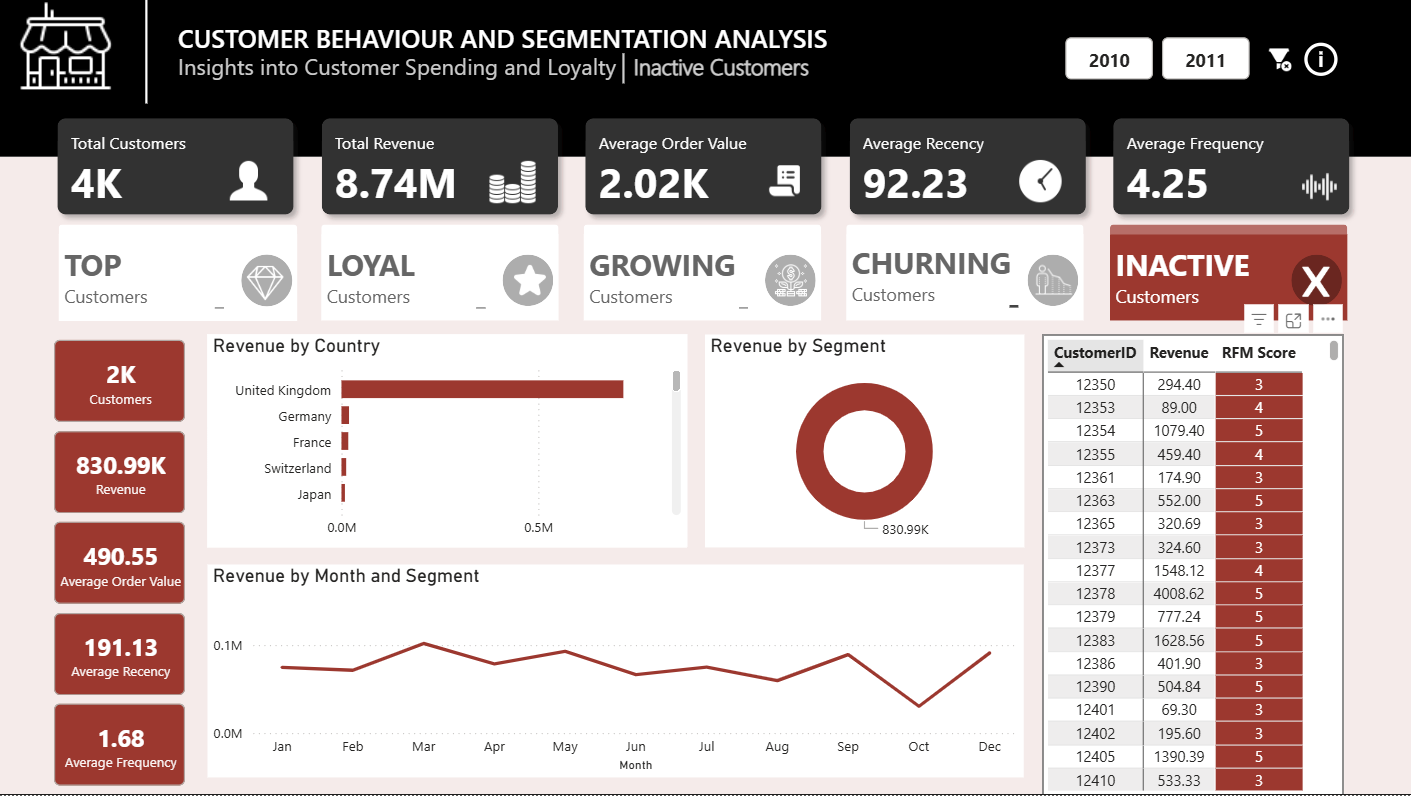

Layout of this report page (visuals, bound fields, positions):
{"tool":"powerbi","page":{"name":"Dashboard","canvas":[1280,720],"ordinal":0},"visuals":[{"type":"group","id":"g1","title":"online_store","box":[0,0,1280.4,720.2],"z":0},{"type":"shape","box":[0,0,1280,720],"z":0,"group":"g1"},{"type":"shape","box":[57,205,215,11.7],"z":0,"group":"g3"},{"type":"shape","box":[294,205,214,11.6],"z":0,"group":"g4"},{"type":"shape","box":[531,205,214,11.6],"z":0,"group":"g5"},{"type":"shape","box":[768,205,214,11.6],"z":0,"group":"g6"},{"type":"shape","box":[1005,205,214,11.6],"z":0,"group":"g7"},{"type":"group","id":"g2","title":"background","box":[0,144,1280,576],"z":1000,"group":"g1"},{"type":"actionButton","box":[288,208,224,80],"z":1000},{"type":"shape","box":[294,213.7,214,77.5],"z":1000,"group":"g4"},{"type":"shape","box":[531,213.7,214,77.5],"z":1000,"group":"g5"},{"type":"shape","box":[768,213.7,214,77.5],"z":1000,"group":"g6"},{"type":"shape","box":[1005,213.7,214,77.5],"z":1000,"group":"g7"},{"type":"shape","box":[57,213.8,215,78],"z":1000,"group":"g3"},{"type":"shape","box":[0,0,1280,144],"z":2000,"group":"g1"},{"type":"actionButton","box":[64,208,208,80],"z":2000},{"type":"textbox","title":"CHURNING","box":[768,221,160,64],"z":2000,"group":"g6"},{"type":"textbox","title":"LOYAL","box":[294,223.4,152.9,62],"z":2000,"group":"g4"},{"type":"textbox","title":"GROWING","box":[531,223.4,152.9,62],"z":2000,"group":"g5"},{"type":"textbox","title":"INACTIVE","box":[1005,223.4,152.9,62],"z":2000,"group":"g7"},{"type":"textbox","title":"TOP","box":[57,223.5,153.6,62.4],"z":2000,"group":"g3"},{"type":"image","title":"logo","box":[16,0,96,96],"z":3000,"group":"g1"},{"type":"actionButton","box":[528,208,224,80],"z":3000},{"type":"shape","box":[457.4,232.1,45.9,46.5],"z":3000,"group":"g4"},{"type":"shape","box":[694.4,232.1,45.9,46.5],"z":3000,"group":"g5"},{"type":"shape","box":[931.4,232.1,45.9,46.5],"z":3000,"group":"g6"},{"type":"shape","box":[1168.4,232.1,45.9,46.5],"z":3000,"group":"g7"},{"type":"shape","box":[221.1,232.3,46.1,46.8],"z":3000,"group":"g3"},{"type":"shape","box":[128,0,16,96],"z":4000,"group":"g1"},{"type":"actionButton","box":[768,208,208,80],"z":4000},{"type":"image","box":[458,232,47,47],"z":4000,"group":"g4"},{"type":"image","box":[932,232,45,45],"z":4000,"group":"g6"},{"type":"image","box":[698,235,40,40],"z":4000,"group":"g5"},{"type":"image","box":[222.1,235.2,43.2,43.9],"z":4000,"group":"g3"},{"type":"image","box":[1171,236,40,40],"z":4000,"group":"g7"},{"type":"cardVisual","title":"segment kpi","fields":{"Data":["Segment_KPI_Measures.Segment_Total_Customers","Segment_KPI_Measures.Segment_Total_Revenue","Segment_KPI_Measures.Segmenta_Average_Order_Value","Segment_KPI_Measures.Segment_Average_Recency","Segment_KPI_Measures.Segment_Average_Frequency"]},"box":[48,304,128,416],"z":4000,"group":"g9"},{"type":"barChart","title":"Revenue by Country","fields":{"Category":["CustomerRFM.Country"],"Y":["Sum(CustomerRFM.TotalSpend)"]},"box":[192,304,432,192],"z":4000,"group":"g8"},{"type":"textbox","title":"CUSTOMER BEHAVIOUR AND SEGMENTATION ANALYSIS","box":[160.5,21.1,607.1,32.3],"z":5000,"group":"g1"},{"type":"actionButton","box":[1008,208,208,80],"z":5000},{"type":"cardVisual","title":"segment kpi","fields":{"Data":["Segment_KPI_Measures.Segment_Total_Customers","Segment_KPI_Measures.Segment_Total_Revenue","Segment_KPI_Measures.Segmenta_Average_Order_Value","Segment_KPI_Measures.Segment_Average_Recency","Segment_KPI_Measures.Segment_Average_Frequency"]},"box":[48,304,128,416],"z":5000,"group":"g9"},{"type":"barChart","title":"Revenue by Country","fields":{"Category":["CustomerRFM.Country"],"Y":["Sum(CustomerRFM.TotalSpend)"]},"box":[192,304,432,192],"z":5000,"group":"g8"},{"type":"actionButton","title":"info btn","box":[1176,28,40,56],"z":6000},{"type":"textbox","title":"Insights into Customer Spending and Loyalty","box":[160,48,736,32],"z":6000,"group":"g1"},{"type":"cardVisual","title":"main kpi","fields":{"Data":["Main_KPI_Measures.Total_Customers","Main_KPI_Measures.Total_Revenue","Main_KPI_Measures.Average_Order_Value","Main_KPI_Measures.Average_Recency","Main_KPI_Measures.Average_Frequency"]},"box":[40,92,1200,121],"z":7000,"group":"g1"},{"type":"actionButton","title":"toolpit_btn_open","box":[1172,32,48,48],"z":8000},{"type":"actionButton","box":[63.4,112,200.3,82.1],"z":9000},{"type":"group","id":"g3","title":"Top_inactive","box":[57,205,215,78],"z":9000,"group":"g1"},{"type":"actionButton","box":[299.8,112,200.3,82.1],"z":10000},{"type":"actionButton","box":[539.9,112,200.3,82.1],"z":11000},{"type":"group","id":"g4","title":"Loyal_inactive","box":[294,205,214,86.2],"z":11000,"group":"g1"},{"type":"actionButton","box":[777.5,112,200.3,82.1],"z":12000},{"type":"actionButton","box":[1013.8,112,200.3,82.1],"z":13000},{"type":"group","id":"g5","title":"Growing_inactive","box":[531,205,214,86.2],"z":13000,"group":"g1"},{"type":"cardVisual","fields":{"Data":["Conditional Formating.ViewingText"]},"box":[559,24,233.9,59.7],"z":14000},{"type":"shape","box":[546,51,42.3,27.4],"z":15000},{"type":"group","id":"g6","title":"Churning_inactive","box":[768,205,214,86.2],"z":15000,"group":"g1"},{"type":"group","id":"g7","title":"Inactive_inactive","box":[1005,205,214,86.2],"z":17000,"group":"g1"},{"type":"lineChart","fields":{"Y":["Sum(OnlineRetail.TotalAmount)"],"Series":["CustomerRFM.Customer_Segment"],"Category":["OnlineRetail.OrderMonthAbbr"]},"box":[192,512,736,192],"z":19000,"group":"g1"},{"type":"donutChart","fields":{"Category":["CustomerRFM.Customer_Segment"],"Y":["Sum(CustomerRFM.TotalSpend)"]},"box":[640,304,288,192],"z":20000,"group":"g1"},{"type":"pivotTable","fields":{"Rows":["CustomerRFM.CustomerID"],"Values":["Sum(CustomerRFM.TotalSpend)","Sum(CustomerRFM.RFM_Score)"]},"box":[944,304,272,416],"z":21000,"group":"g1"},{"type":"advancedSlicerVisual","title":"Year slicer","fields":{"Values":["OnlineRetail.Year"]},"box":[960,32,176,48],"z":22000,"group":"g1"},{"type":"image","title":"clear slicer","box":[1142,16,32,80],"z":23000,"group":"g1"},{"type":"actionButton","title":"info btn","box":[1175,32,32,48],"z":24000,"group":"g1"},{"type":"group","id":"g8","title":"Revenue by country","box":[192,304,432,192],"z":25000,"group":"g1"},{"type":"group","id":"g9","title":"segment kpi","box":[48,304,128,416],"z":26000,"group":"g1"}]}

Visuals, with their boxes in screenshot pixels (x1, y1, x2, y2), scaled from the page's 1280x720 canvas onto the 1411x796 screenshot:
"online_store" group: rect(0, 0, 1410, 795)
shape: rect(0, 0, 1410, 795)
shape: rect(63, 227, 300, 240)
shape: rect(324, 227, 560, 239)
shape: rect(585, 227, 821, 239)
shape: rect(847, 227, 1083, 239)
shape: rect(1108, 227, 1344, 239)
"background" group: rect(0, 159, 1410, 795)
actionButton: rect(317, 230, 564, 318)
shape: rect(324, 236, 560, 322)
shape: rect(585, 236, 821, 322)
shape: rect(847, 236, 1083, 322)
shape: rect(1108, 236, 1344, 322)
shape: rect(63, 236, 300, 323)
shape: rect(0, 0, 1410, 159)
actionButton: rect(71, 230, 300, 318)
"CHURNING" textbox: rect(847, 244, 1023, 315)
"LOYAL" textbox: rect(324, 247, 493, 316)
"GROWING" textbox: rect(585, 247, 754, 316)
"INACTIVE" textbox: rect(1108, 247, 1276, 316)
"TOP" textbox: rect(63, 247, 232, 316)
"logo" image: rect(18, 0, 123, 106)
actionButton: rect(582, 230, 829, 318)
shape: rect(504, 257, 555, 308)
shape: rect(765, 257, 816, 308)
shape: rect(1027, 257, 1077, 308)
shape: rect(1288, 257, 1339, 308)
shape: rect(244, 257, 295, 309)
shape: rect(141, 0, 159, 106)
actionButton: rect(847, 230, 1076, 318)
image: rect(505, 256, 557, 308)
image: rect(1027, 256, 1077, 306)
image: rect(769, 260, 814, 304)
image: rect(245, 260, 292, 309)
image: rect(1291, 261, 1335, 305)
"segment kpi" cardVisual: rect(53, 336, 194, 795)
"Revenue by Country" barChart: rect(212, 336, 688, 548)
"CUSTOMER BEHAVIOUR AND SEGMENTATION ANALYSIS" textbox: rect(177, 23, 846, 59)
actionButton: rect(1111, 230, 1340, 318)
"segment kpi" cardVisual: rect(53, 336, 194, 795)
"Revenue by Country" barChart: rect(212, 336, 688, 548)
"info btn" actionButton: rect(1296, 31, 1340, 93)
"Insights into Customer Spending and Loyalty" textbox: rect(176, 53, 988, 88)
"main kpi" cardVisual: rect(44, 102, 1367, 235)
"toolpit_btn_open" actionButton: rect(1292, 35, 1345, 88)
actionButton: rect(70, 124, 291, 215)
"Top_inactive" group: rect(63, 227, 300, 313)
actionButton: rect(330, 124, 551, 215)
actionButton: rect(595, 124, 816, 215)
"Loyal_inactive" group: rect(324, 227, 560, 322)
actionButton: rect(857, 124, 1078, 215)
actionButton: rect(1118, 124, 1338, 215)
"Growing_inactive" group: rect(585, 227, 821, 322)
cardVisual - Conditional Formating.ViewingText: rect(616, 27, 874, 93)
shape: rect(602, 56, 649, 87)
"Churning_inactive" group: rect(847, 227, 1083, 322)
"Inactive_inactive" group: rect(1108, 227, 1344, 322)
lineChart - Sum(OnlineRetail.TotalAmount) x CustomerRFM.Customer_Segment: rect(212, 566, 1023, 778)
donutChart - CustomerRFM.Customer_Segment x Sum(CustomerRFM.TotalSpend): rect(706, 336, 1023, 548)
pivotTable - CustomerRFM.CustomerID x Sum(CustomerRFM.TotalSpend): rect(1041, 336, 1340, 795)
"Year slicer" advancedSlicerVisual: rect(1058, 35, 1252, 88)
"clear slicer" image: rect(1259, 18, 1294, 106)
"info btn" actionButton: rect(1295, 35, 1331, 88)
"Revenue by country" group: rect(212, 336, 688, 548)
"segment kpi" group: rect(53, 336, 194, 795)
